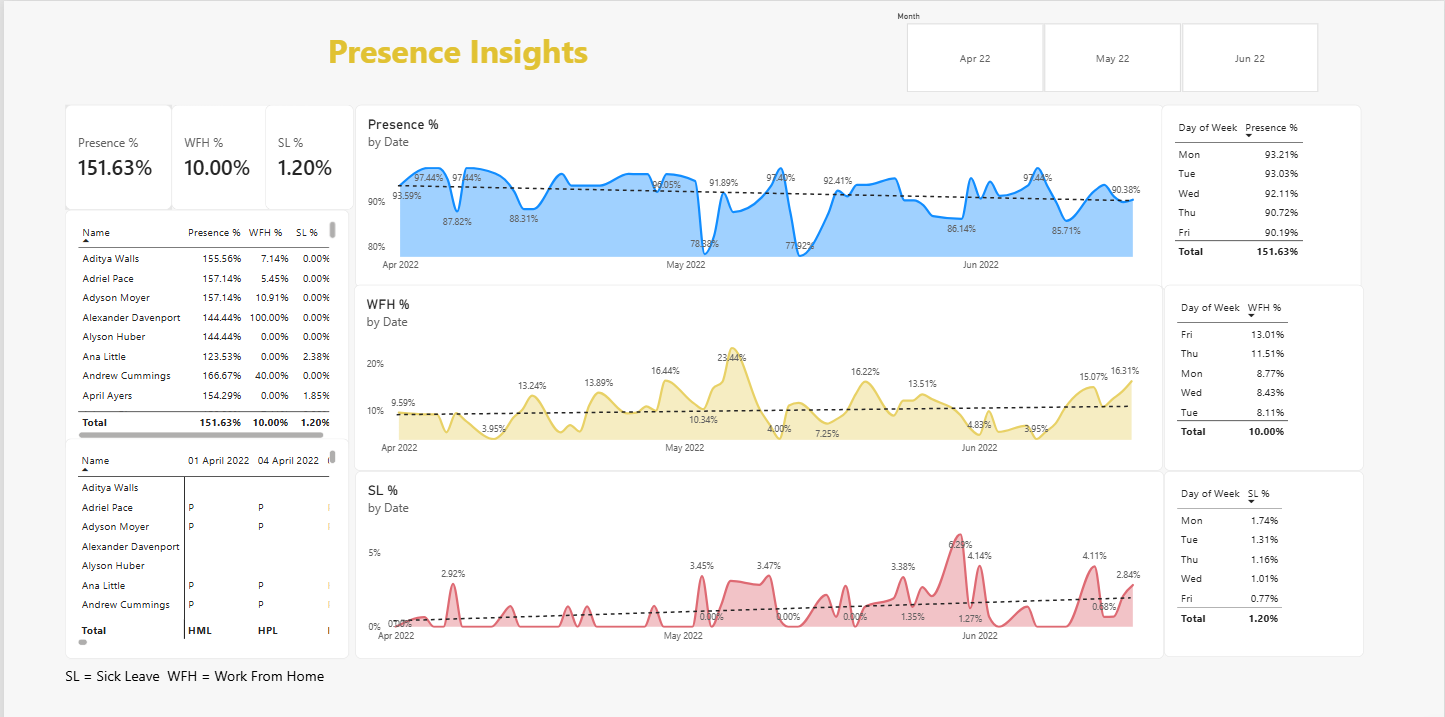

What the dashboard file says about the page in this screenshot:
{"tool":"powerbi","page":{"name":"Page 1","canvas":[1920,1080],"ordinal":0},"visuals":[{"type":"cardVisual","fields":{"Data":["Measure Table.Presence %"]},"box":[82,138,142,140],"z":0},{"type":"slicer","fields":{"Values":["Final Data.Month"]},"box":[1184,14,588,110],"z":1000},{"type":"cardVisual","fields":{"Data":["Measure Table.WFH %"]},"box":[224,138,138,140],"z":2000},{"type":"cardVisual","fields":{"Data":["Measure Table.SL %"]},"box":[348,138,118,140],"z":3000},{"type":"tableEx","fields":{"Values":["Final Data.Name","Measure Table.Presence %","Measure Table.WFH %","Measure Table.SL %"]},"box":[81.7,278.3,378,322],"z":4000},{"type":"textbox","box":[53.3,0,1103.3,106.7],"z":5000},{"type":"pivotTable","fields":{"Rows":["Final Data.Name"],"Values":["Min(Final Data.Value)"],"Columns":["Final Data.Date"]},"box":[81.7,583.3,378.3,293.3],"z":5001},{"type":"areaChart","fields":{"Y":["Measure Table.Presence %"],"Category":["Final Data.Date"]},"box":[468.3,138.3,1078,244],"z":5002},{"type":"areaChart","fields":{"Y":["Measure Table.WFH %"],"Category":["Final Data.Date"]},"box":[466.7,378.3,1078,248],"z":5003},{"type":"areaChart","fields":{"Y":["Measure Table.SL %"],"Category":["Final Data.Date"]},"box":[468.3,626.7,1078,250],"z":5004},{"type":"tableEx","fields":{"Values":["Final Data.Day of Week","Measure Table.Presence %"]},"box":[1544,138,266,248],"z":5005},{"type":"tableEx","fields":{"Values":["Final Data.Day of Week","Measure Table.WFH %"]},"box":[1546,378,266,248],"z":5006},{"type":"tableEx","fields":{"Values":["Final Data.Day of Week","Measure Table.SL %"]},"box":[1546,626,266,248],"z":5007},{"type":"textbox","box":[81.7,886.7,378.3,53.3],"z":5008}]}

Visuals, with their boxes on the page's 1920x1080 design canvas (x1, y1, x2, y2). These are canvas units, not pixel positions in the 1445x717 screenshot, which may show the page scaled, cropped or inside an application window:
cardVisual - Measure Table.Presence %: [x1=82, y1=138, x2=224, y2=278]
slicer - Final Data.Month: [x1=1184, y1=14, x2=1772, y2=124]
cardVisual - Measure Table.WFH %: [x1=224, y1=138, x2=362, y2=278]
cardVisual - Measure Table.SL %: [x1=348, y1=138, x2=466, y2=278]
tableEx - Final Data.Name x Measure Table.Presence %: [x1=82, y1=278, x2=460, y2=600]
textbox: [x1=53, y1=0, x2=1157, y2=107]
pivotTable - Final Data.Name x Min(Final Data.Value): [x1=82, y1=583, x2=460, y2=877]
areaChart - Measure Table.Presence % x Final Data.Date: [x1=468, y1=138, x2=1546, y2=382]
areaChart - Measure Table.WFH % x Final Data.Date: [x1=467, y1=378, x2=1545, y2=626]
areaChart - Measure Table.SL % x Final Data.Date: [x1=468, y1=627, x2=1546, y2=877]
tableEx - Final Data.Day of Week x Measure Table.Presence %: [x1=1544, y1=138, x2=1810, y2=386]
tableEx - Final Data.Day of Week x Measure Table.WFH %: [x1=1546, y1=378, x2=1812, y2=626]
tableEx - Final Data.Day of Week x Measure Table.SL %: [x1=1546, y1=626, x2=1812, y2=874]
textbox: [x1=82, y1=887, x2=460, y2=940]
